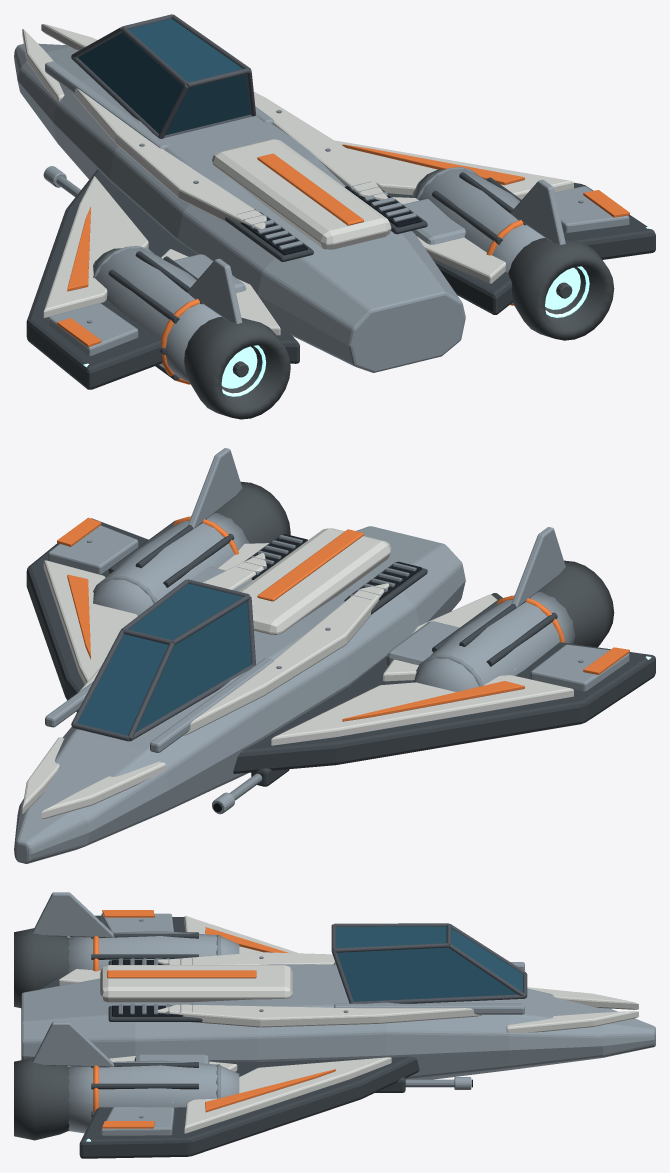
The model's file is kestrel.glb.
3 renders of one model, top to bottom at view 1: azimuth 30°, elevation 25°; view 2: azimuth 150°, elevation 25°; view 3: azimuth 270°, elevation 25°, orthographic. The views are drawn at different scales.
Visible parts, largest first — view 1: hull_secondary, hull_armor, structural, engine_nozzle, canopy, accent, cockpit_frame, engine_core, gunmetal, vent; view 2: hull_secondary, hull_armor, structural, canopy, engine_nozzle, accent, cockpit_frame, gunmetal, vent; view 3: hull_secondary, hull_armor, structural, canopy, engine_nozzle, accent, cockpit_frame, gunmetal, vent.
Boxes of the visible parts, <box> form: hull_secondary: <box>14,43,629,382</box>; hull_armor: <box>22,24,573,335</box>; structural: <box>26,169,655,389</box>; engine_nozzle: <box>184,238,614,419</box>; canopy: <box>78,18,250,135</box>; accent: <box>57,144,629,384</box>; cockpit_frame: <box>71,14,255,138</box>; engine_core: <box>83,226,651,396</box>; gunmetal: <box>56,110,583,323</box>; vent: <box>240,186,421,255</box>; hull_secondary: <box>14,448,629,863</box>; hull_armor: <box>22,528,573,818</box>; structural: <box>26,518,655,786</box>; canopy: <box>77,583,251,735</box>; engine_nozzle: <box>215,481,614,647</box>; accent: <box>57,516,629,721</box>; cockpit_frame: <box>71,579,255,741</box>; gunmetal: <box>87,535,583,800</box>; vent: <box>213,534,421,812</box>; hull_secondary: <box>21,892,655,1135</box>; hull_armor: <box>59,916,638,1133</box>; structural: <box>40,915,419,1158</box>; canopy: <box>336,926,522,1001</box>; engine_nozzle: <box>14,928,69,1140</box>; accent: <box>93,910,335,1128</box>; cockpit_frame: <box>331,923,527,1003</box>; gunmetal: <box>118,919,454,1118</box>; vent: <box>112,960,472,1087</box>.
Bounding box in the file's own units: 4.4 × 1.32 × 5.24.
